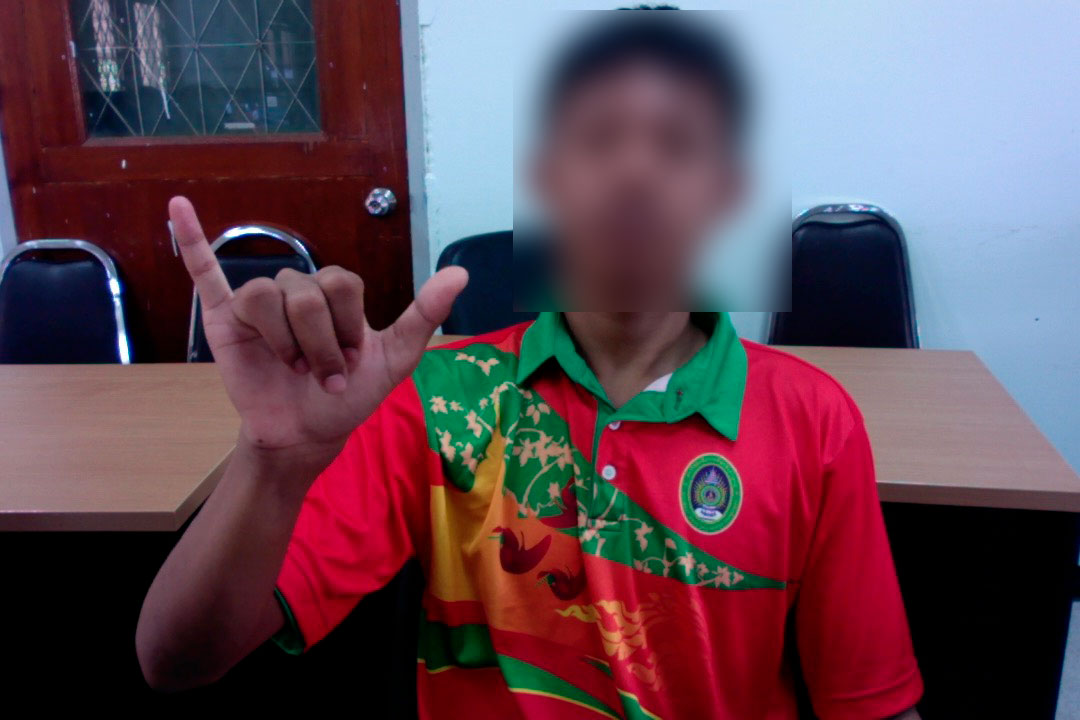yor: (163, 186, 475, 486)
